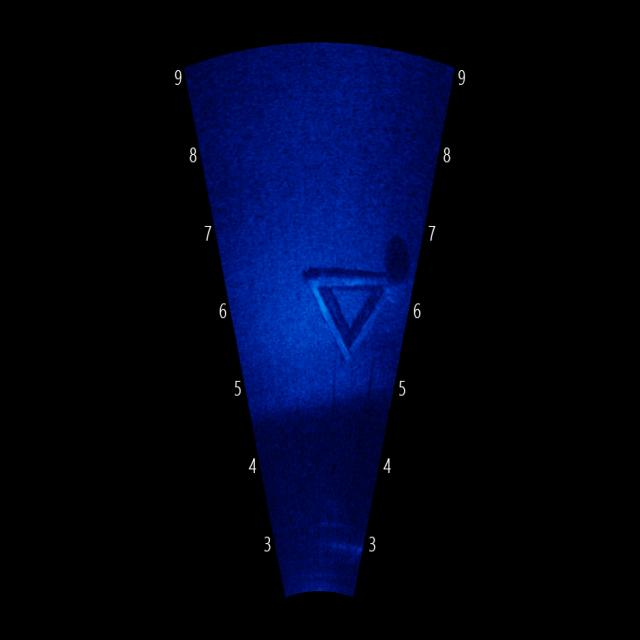triangle: (298, 256, 403, 362)
